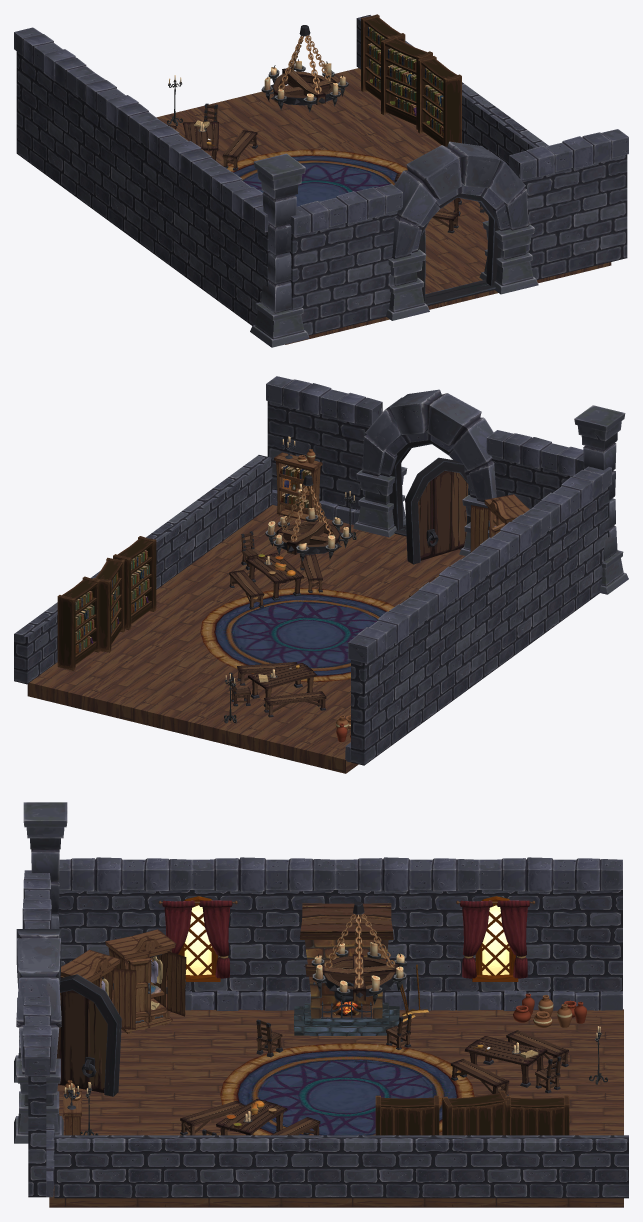
File: ServantsQuartet.gltf
The picture shows the model from 3 angles, top to bottom: view 1: azimuth 30°, elevation 25°; view 2: azimuth 150°, elevation 25°; view 3: azimuth 270°, elevation 25°; orthographic projection. The views are drawn at different scales.
Parts seen in each view (by area): view 1: Servantsquartet; view 2: Servantsquartet; view 3: Servantsquartet.
Boxes of the visible parts, x1=… form: Servantsquartet: x1=14, y1=14, x2=628, y2=347; Servantsquartet: x1=14, y1=376, x2=628, y2=773; Servantsquartet: x1=14, y1=802, x2=628, y2=1207.
Bounding box in the file's own units: 13.41 × 6.45 × 17.13.
19 materials, 19 textured.
